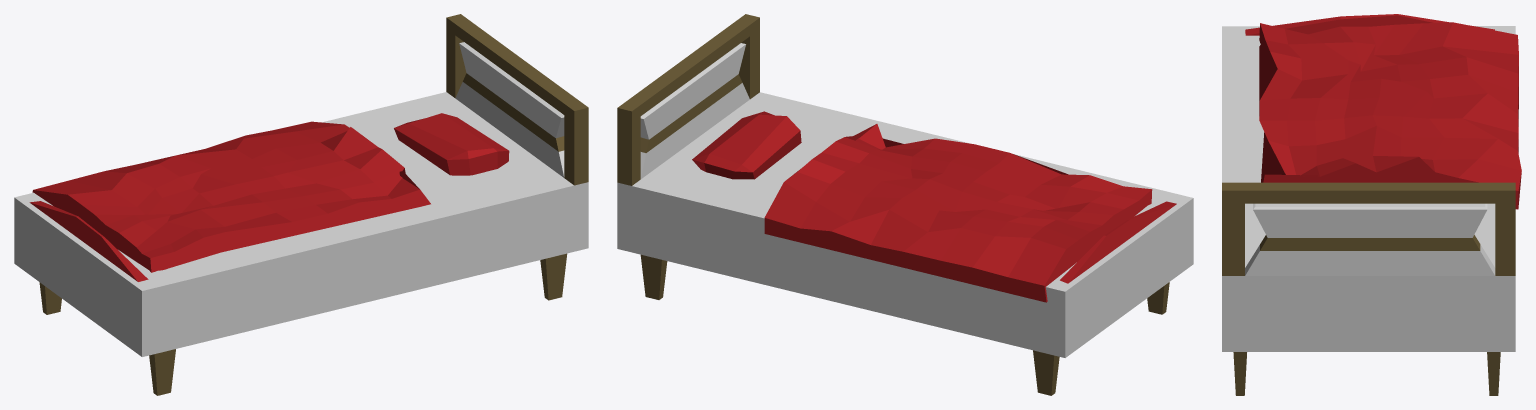
Rendered from yatak.fbx.
3 renders of one model, left to right at view 1: azimuth 30°, elevation 25°; view 2: azimuth 150°, elevation 25°; view 3: azimuth 270°, elevation 25°, orthographic. The views are drawn at different scales.
Visible parts, largest first — view 1: Cube; view 2: Cube; view 3: Cube.
Part boxes in pixels (box(x1,y1,x2,y2)): Cube: box(14, 14, 588, 395); Cube: box(617, 14, 1193, 395); Cube: box(1222, 14, 1521, 395).
Bounding box in the file's own units: 706 × 285 × 358.
